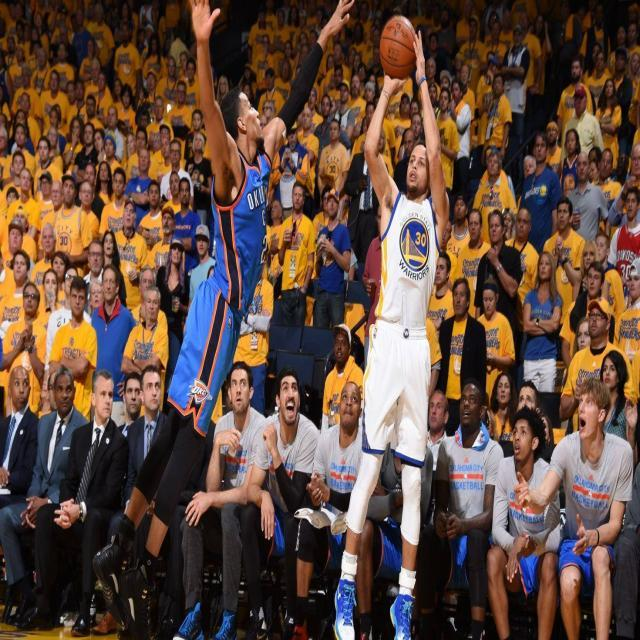rim: (381, 17, 417, 73)
